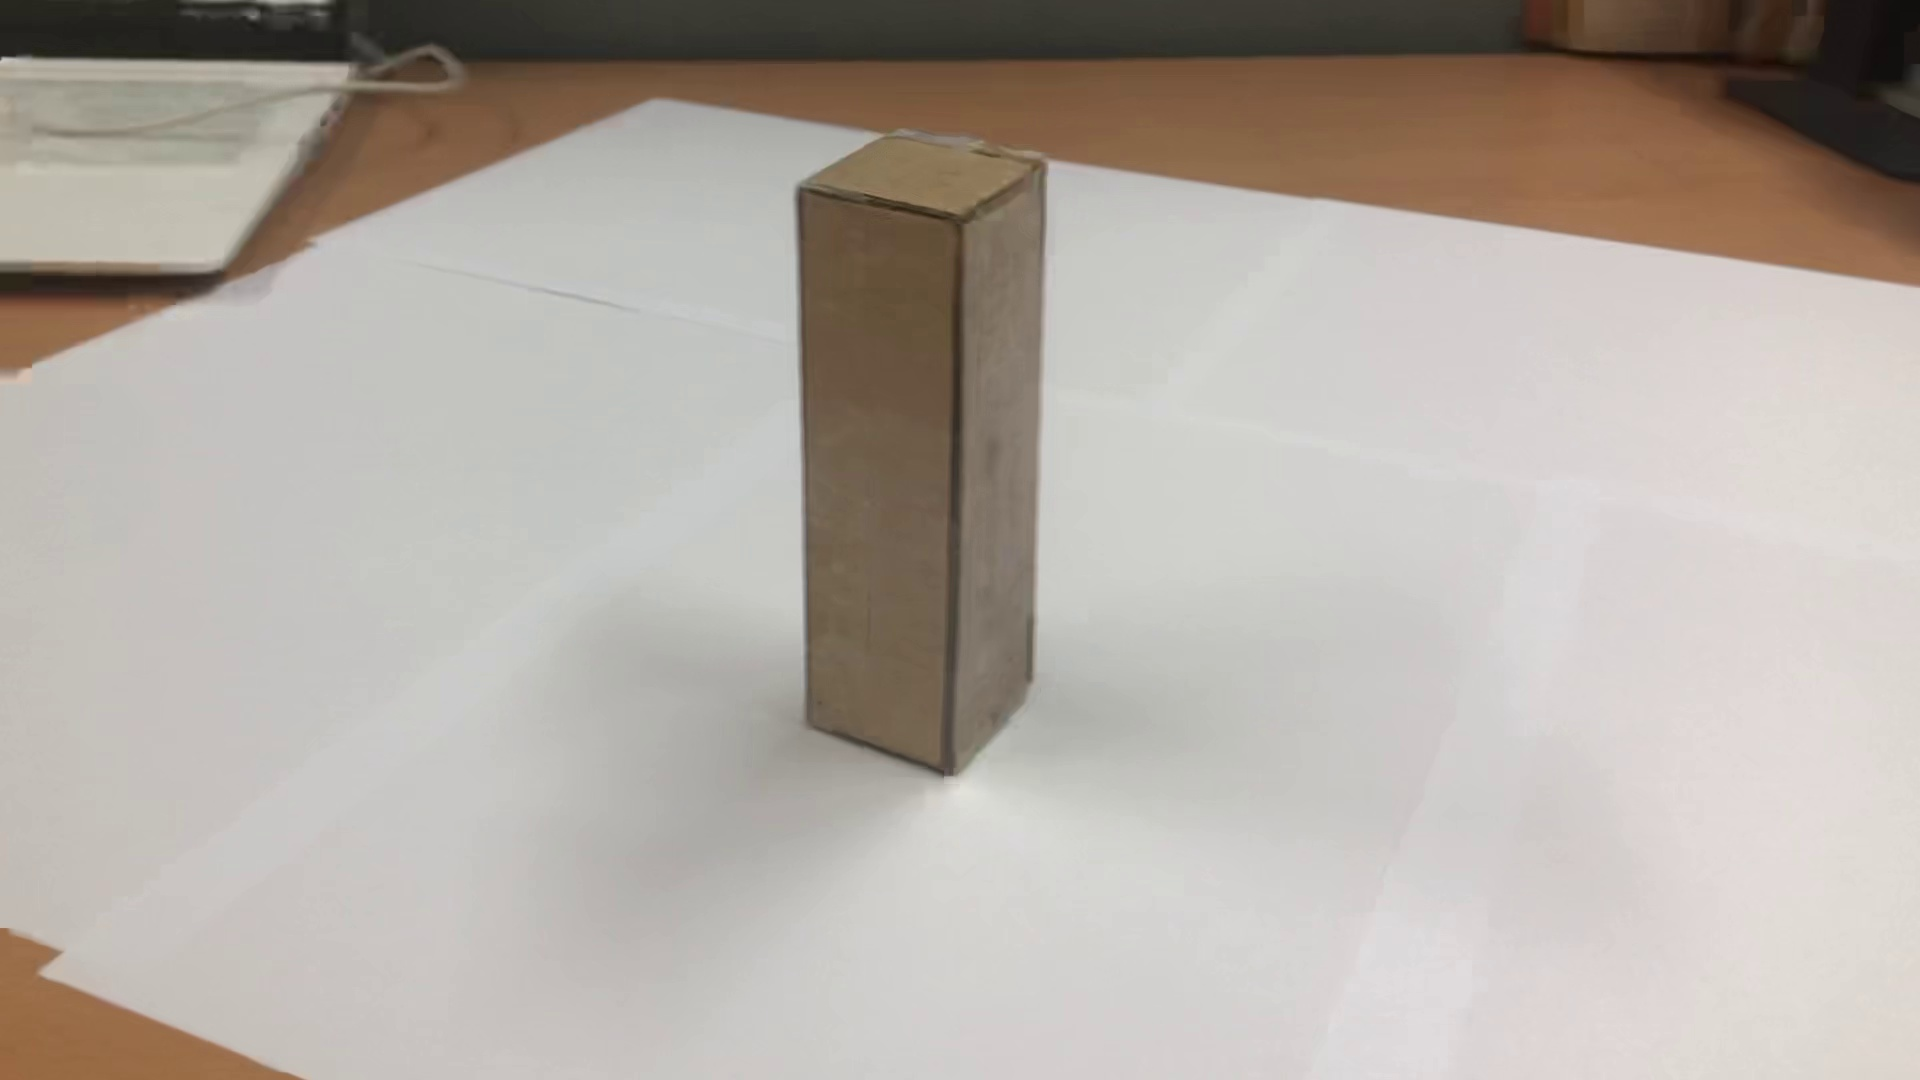box: (767, 105, 1084, 798)
